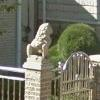Statue: (13, 15, 66, 67)
